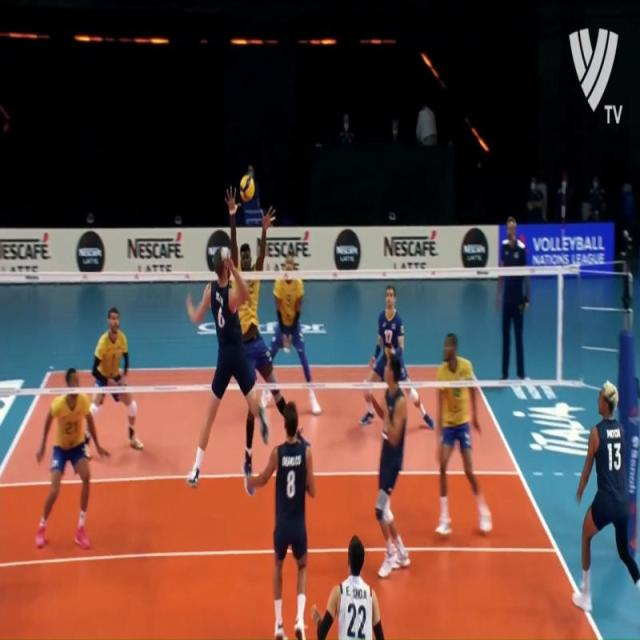volleyball: (239, 175, 255, 202)
